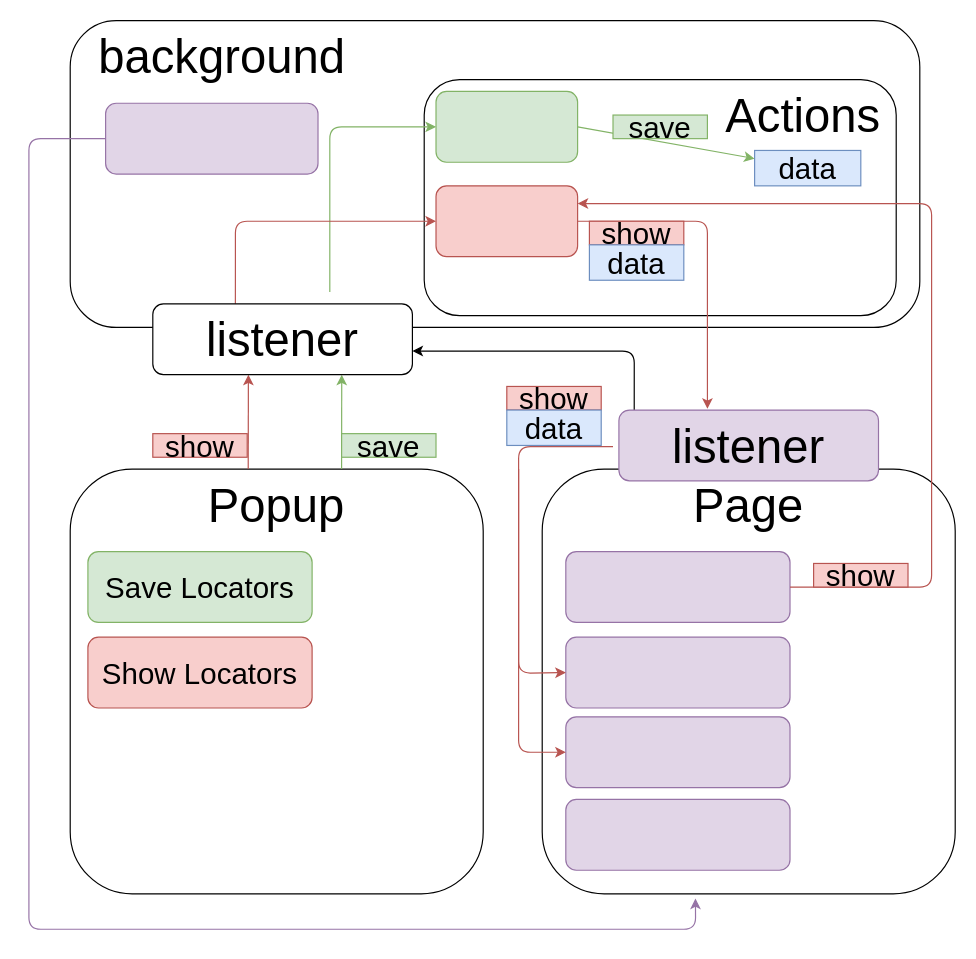
The diagram is 976 pixels wide and 959 high, and some of its shapes have lost their labels. Each missing label, with the centre of its shape:
download source: [506,126]
mouse events: [677,834]
observer: [677,586]
onPageLoad: [211,138]
show data: [677,752]
show source: [506,221]
split page: [677,672]
